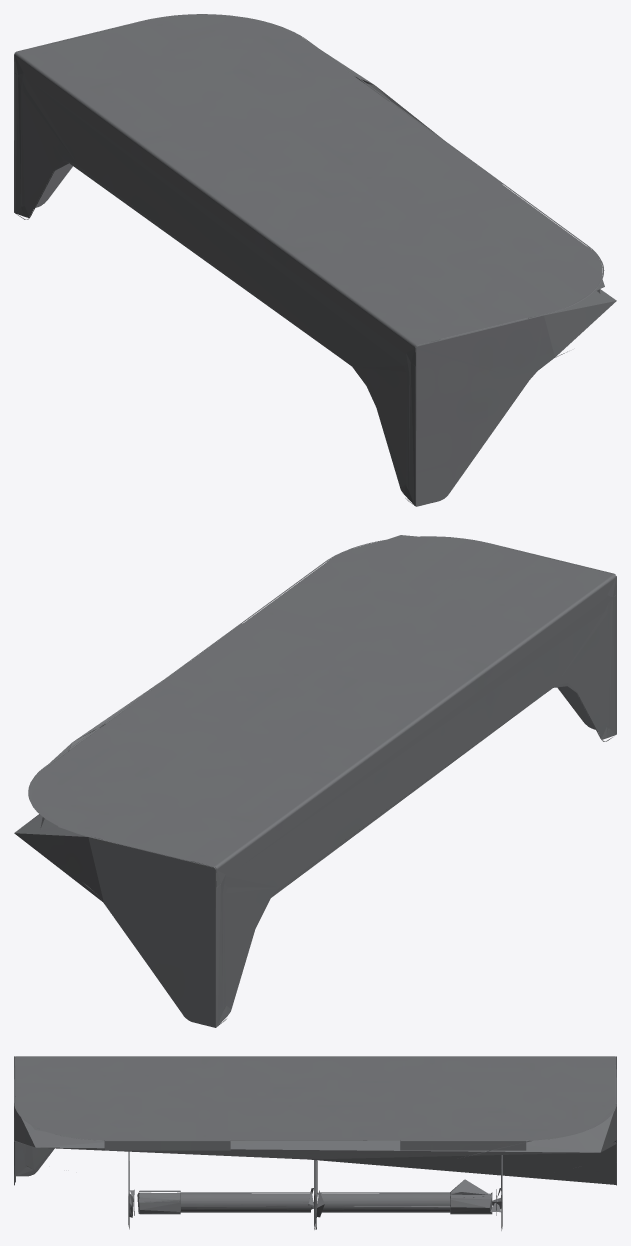
The model's file is fixture_toiletPaperHolder_double_a01.glb.
3 views of the same model, one above another, from view 1: azimuth 30°, elevation 25°; view 2: azimuth 150°, elevation 25°; view 3: azimuth 270°, elevation 25° (orthographic). The views are drawn at different scales.
Parts seen in each view (by area): view 1: geometry_0; view 2: geometry_0; view 3: geometry_0.
Part boxes in pixels (bbox=[...]): geometry_0: bbox=[14, 14, 616, 506]; geometry_0: bbox=[14, 535, 616, 1027]; geometry_0: bbox=[14, 1056, 616, 1230].
Bounding box in the file's own units: 0.1528 × 0.0928 × 0.42.
1 material, 1 textured.
